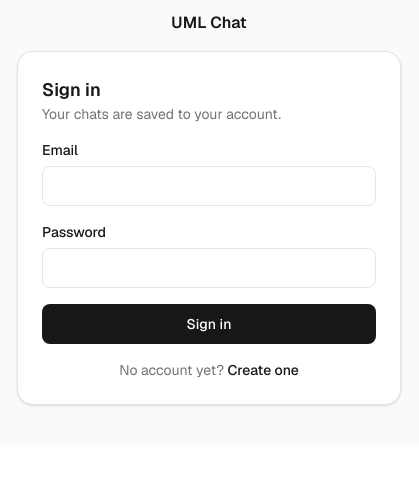
Scenario: ChatPage auth › checks the signup password length before sending anything
Click the button "Create one" at (263,370), box [228,360,299,380]
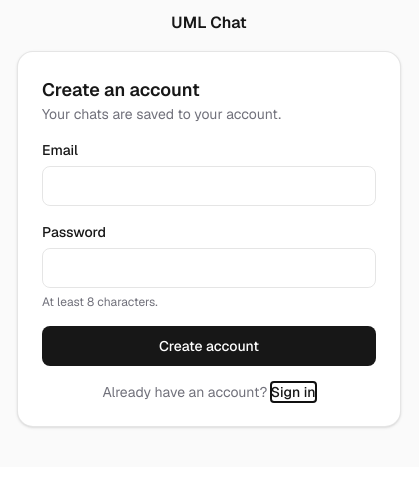
Type "asha@example.com" into the field labelled "Email" at (209,186), box [42,166,376,206]
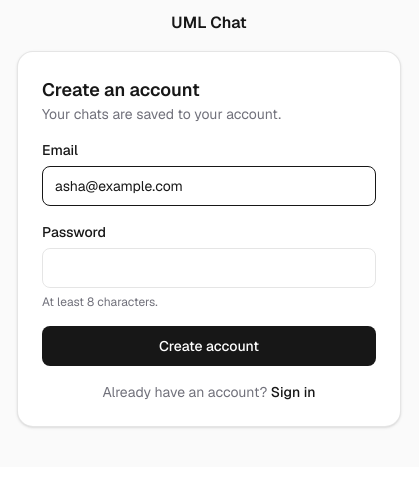
Type "short" into the password field labelled "Password" at (209,268), box [42,248,376,288]
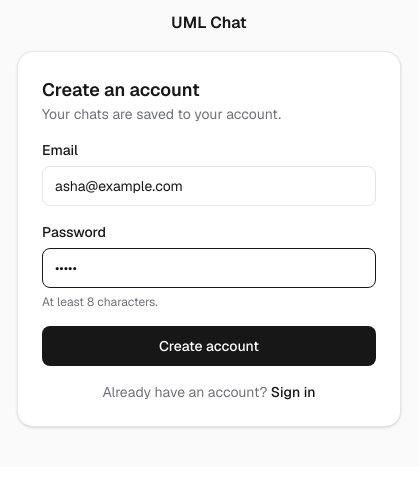
Click the button "Create account" at (209,346), box [42,326,376,366]
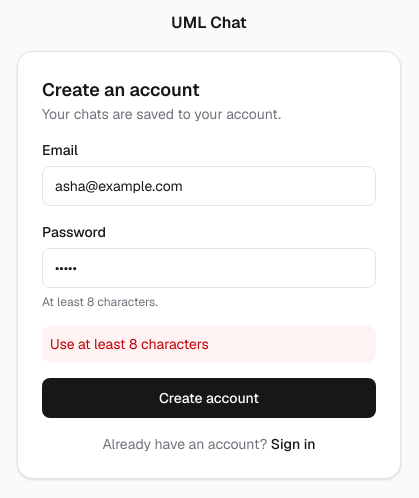
Expected: the message reads "Use at least 8 characters", [50,335,209,353]
